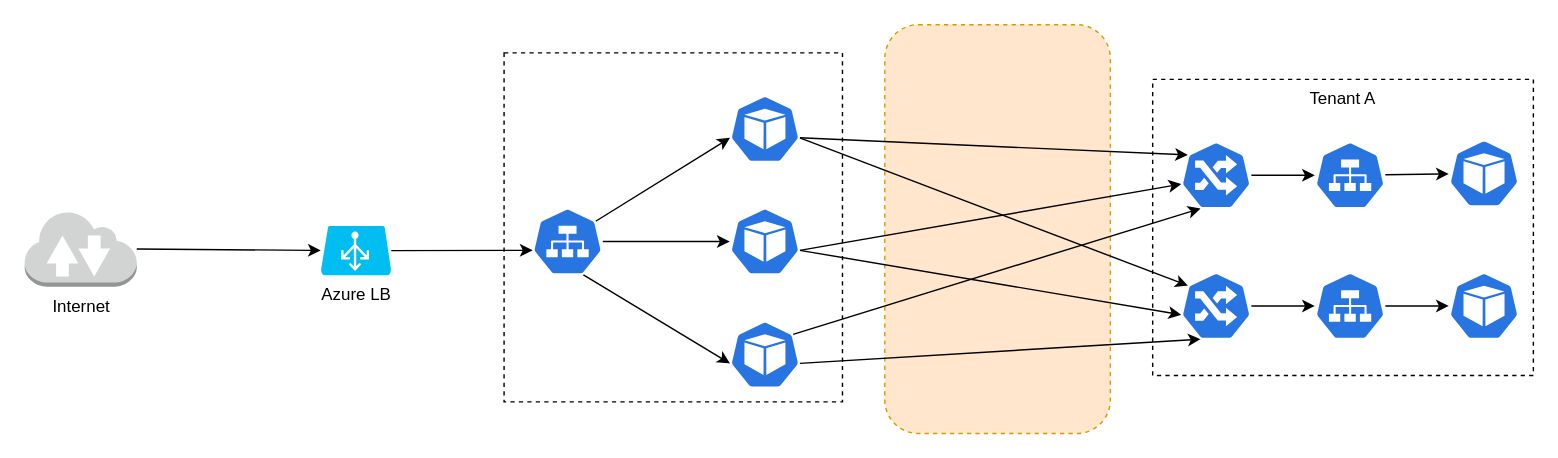
Image size: 1558x458. Some labels were removed from this diagram. The box of each missing label's shape, as (x1, y1, x2, y2) in pixels:
Layer 7 Routing: (883, 23, 1110, 434)
Nginx Ingress: (503, 51, 842, 402)
